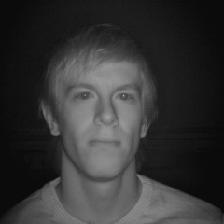normal: (35, 26, 161, 185)
